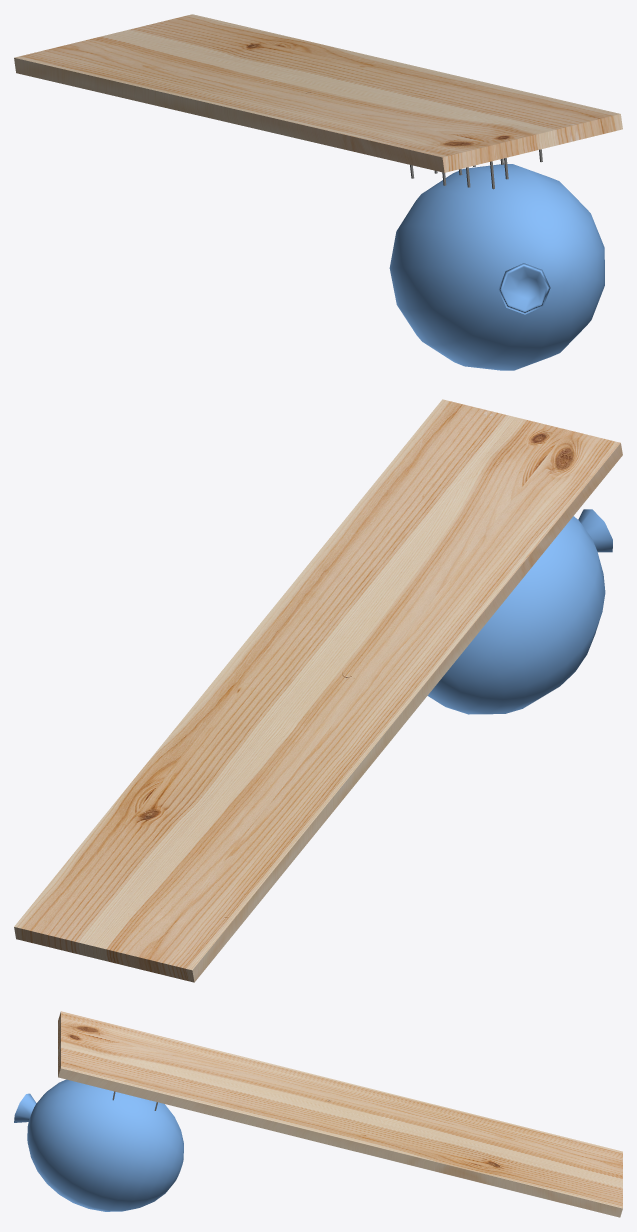
File: trap.fbx
The picture shows the model from 3 angles, top to bottom: view 1: azimuth 30°, elevation 25°; view 2: azimuth 150°, elevation 25°; view 3: azimuth 270°, elevation 25°; orthographic projection. The views are drawn at different scales.
Parts seen in each view (by area): view 1: pSphere3; view 2: pSphere3; view 3: pSphere3.
Boxes of the visible parts, x1,y1,x2,y2 form: pSphere3: [14, 14, 622, 370]; pSphere3: [14, 399, 622, 982]; pSphere3: [14, 1011, 622, 1217].
Bounding box in the file's own units: 17.4 × 23.45 × 77.87.
Materials: 1 (1 with a texture image).
